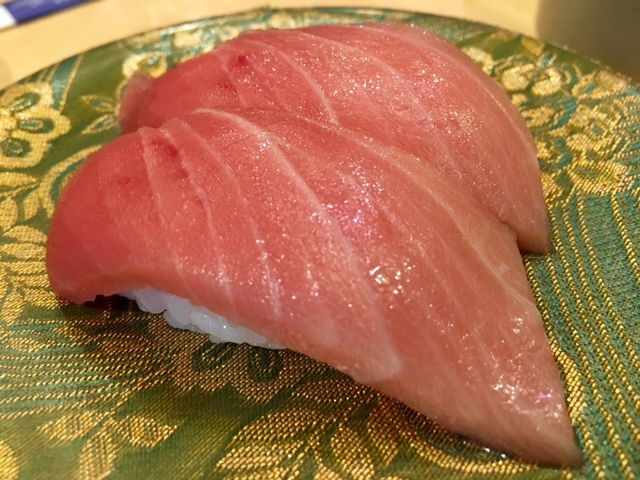medium_fatty_tuna: (47, 140, 491, 391)
